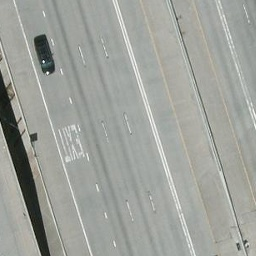car: (35, 40, 55, 76)
